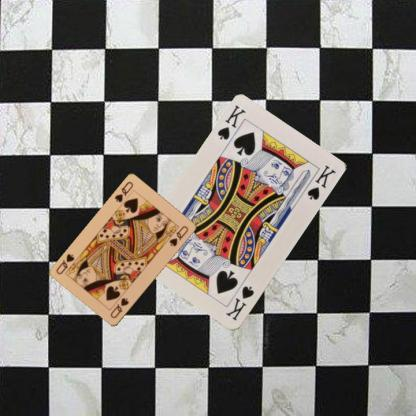Ks: (214, 103, 248, 141), (223, 284, 255, 322)
Qs: (107, 295, 130, 320), (112, 179, 135, 204)
